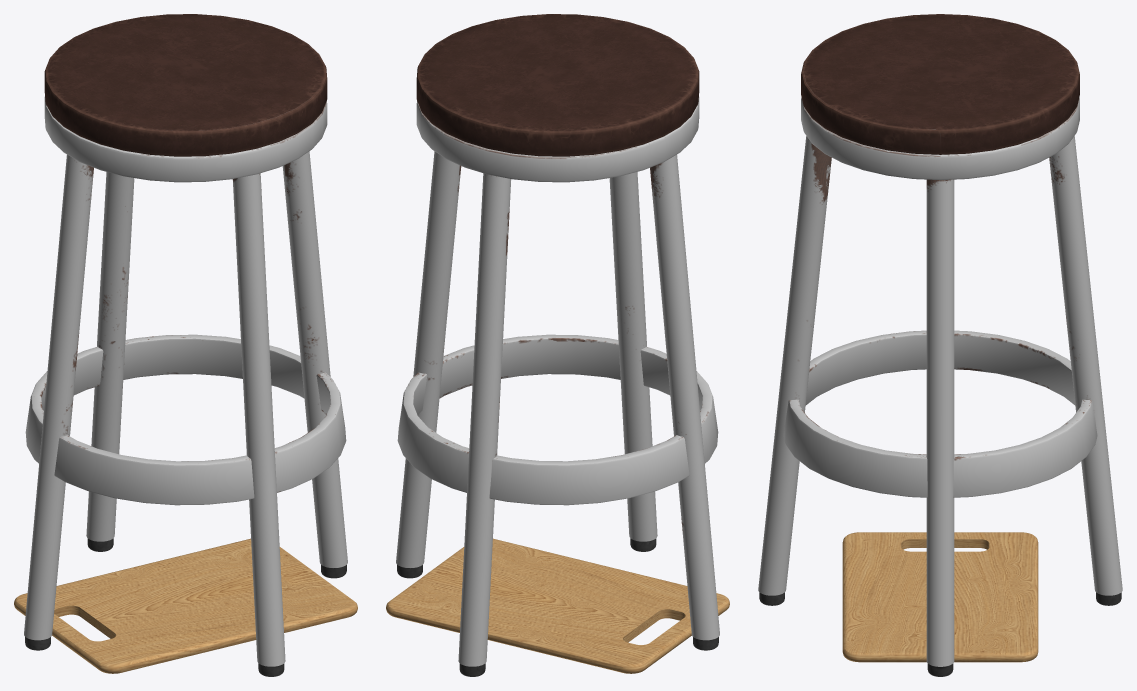
File: Bar Stool and Cutting Board.fbx
3 views of the same model, side by side, from view 1: azimuth 30°, elevation 25°; view 2: azimuth 150°, elevation 25°; view 3: azimuth 270°, elevation 25° (orthographic).
Visible parts, largest first — view 1: Stool LOW, Cutting Board LOW; view 2: Stool LOW, Cutting Board LOW; view 3: Stool LOW, Cutting Board LOW.
Part boxes in pixels (x1,y1,x2,y2): Stool LOW: (24,14,347,676); Cutting Board LOW: (14,538,357,673); Stool LOW: (396,14,719,676); Cutting Board LOW: (386,538,729,673); Stool LOW: (758,14,1122,676); Cutting Board LOW: (842,532,1038,662).
Size of the model in its own units: 261 by 419 by 261.
Materials: 1 (1 with a texture image).
